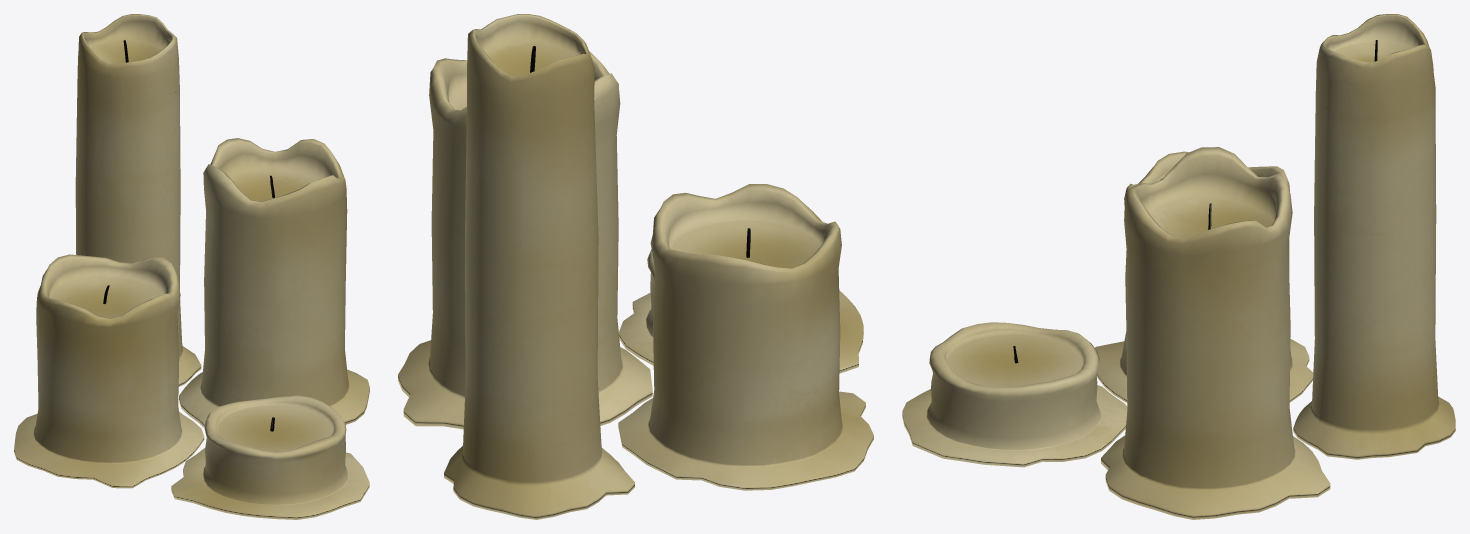
The model's file is Candle.fbx.
3 views of the same model, side by side, from view 1: azimuth 30°, elevation 25°; view 2: azimuth 150°, elevation 25°; view 3: azimuth 270°, elevation 25° (orthographic). The views are drawn at different scales.
Parts seen in each view (by area): view 1: Candle; view 2: Candle; view 3: Candle.
Boxes of the visible parts, x1,y1,x2,y2 form: Candle: [14, 14, 369, 519]; Candle: [398, 14, 873, 519]; Candle: [902, 14, 1455, 519].
Size of the model in its own units: 16.19 by 15.34 by 19.43.
Materials: 1 (1 with a texture image).
